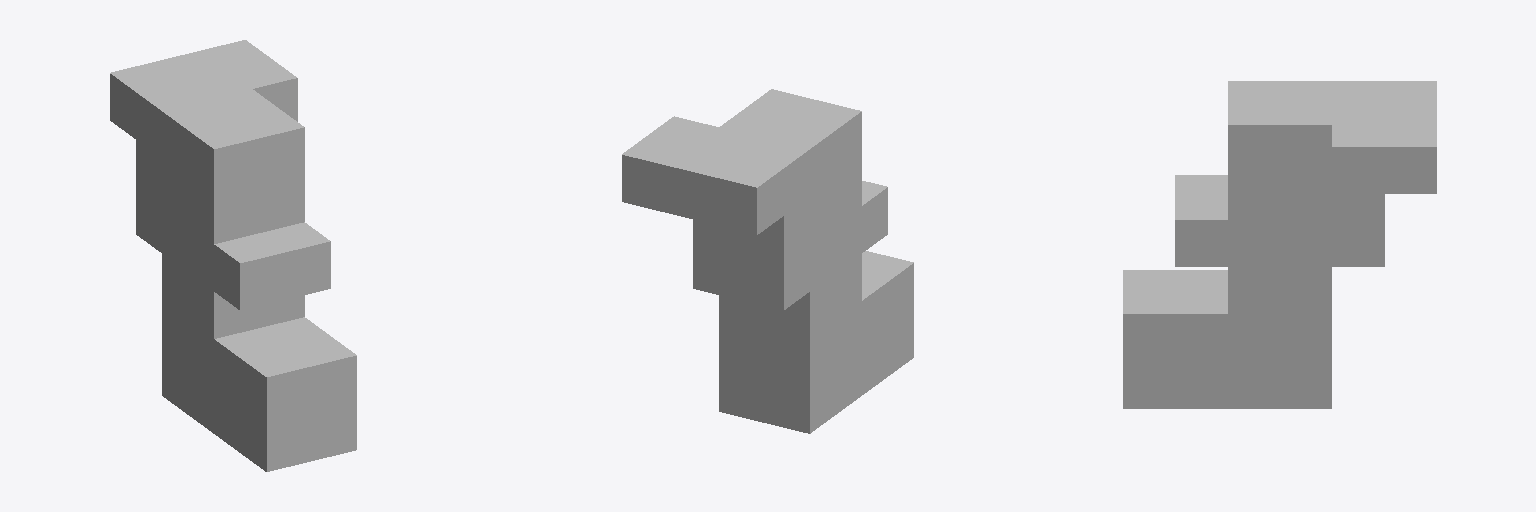
The model's file is Skeleton-1.obj.
The picture shows the model from 3 angles: view 1: azimuth 30°, elevation 25°; view 2: azimuth 150°, elevation 25°; view 3: azimuth 270°, elevation 25°; orthographic projection.
Visible parts, largest first — view 1: object 1; view 2: object 1; view 3: object 1.
Part boxes in pixels (x1,y1,x2,y2): object 1: (110, 40, 356, 471); object 1: (622, 89, 913, 433); object 1: (1123, 81, 1436, 408).
Bounding box in the file's own units: 0.3 × 0.6 × 0.6.